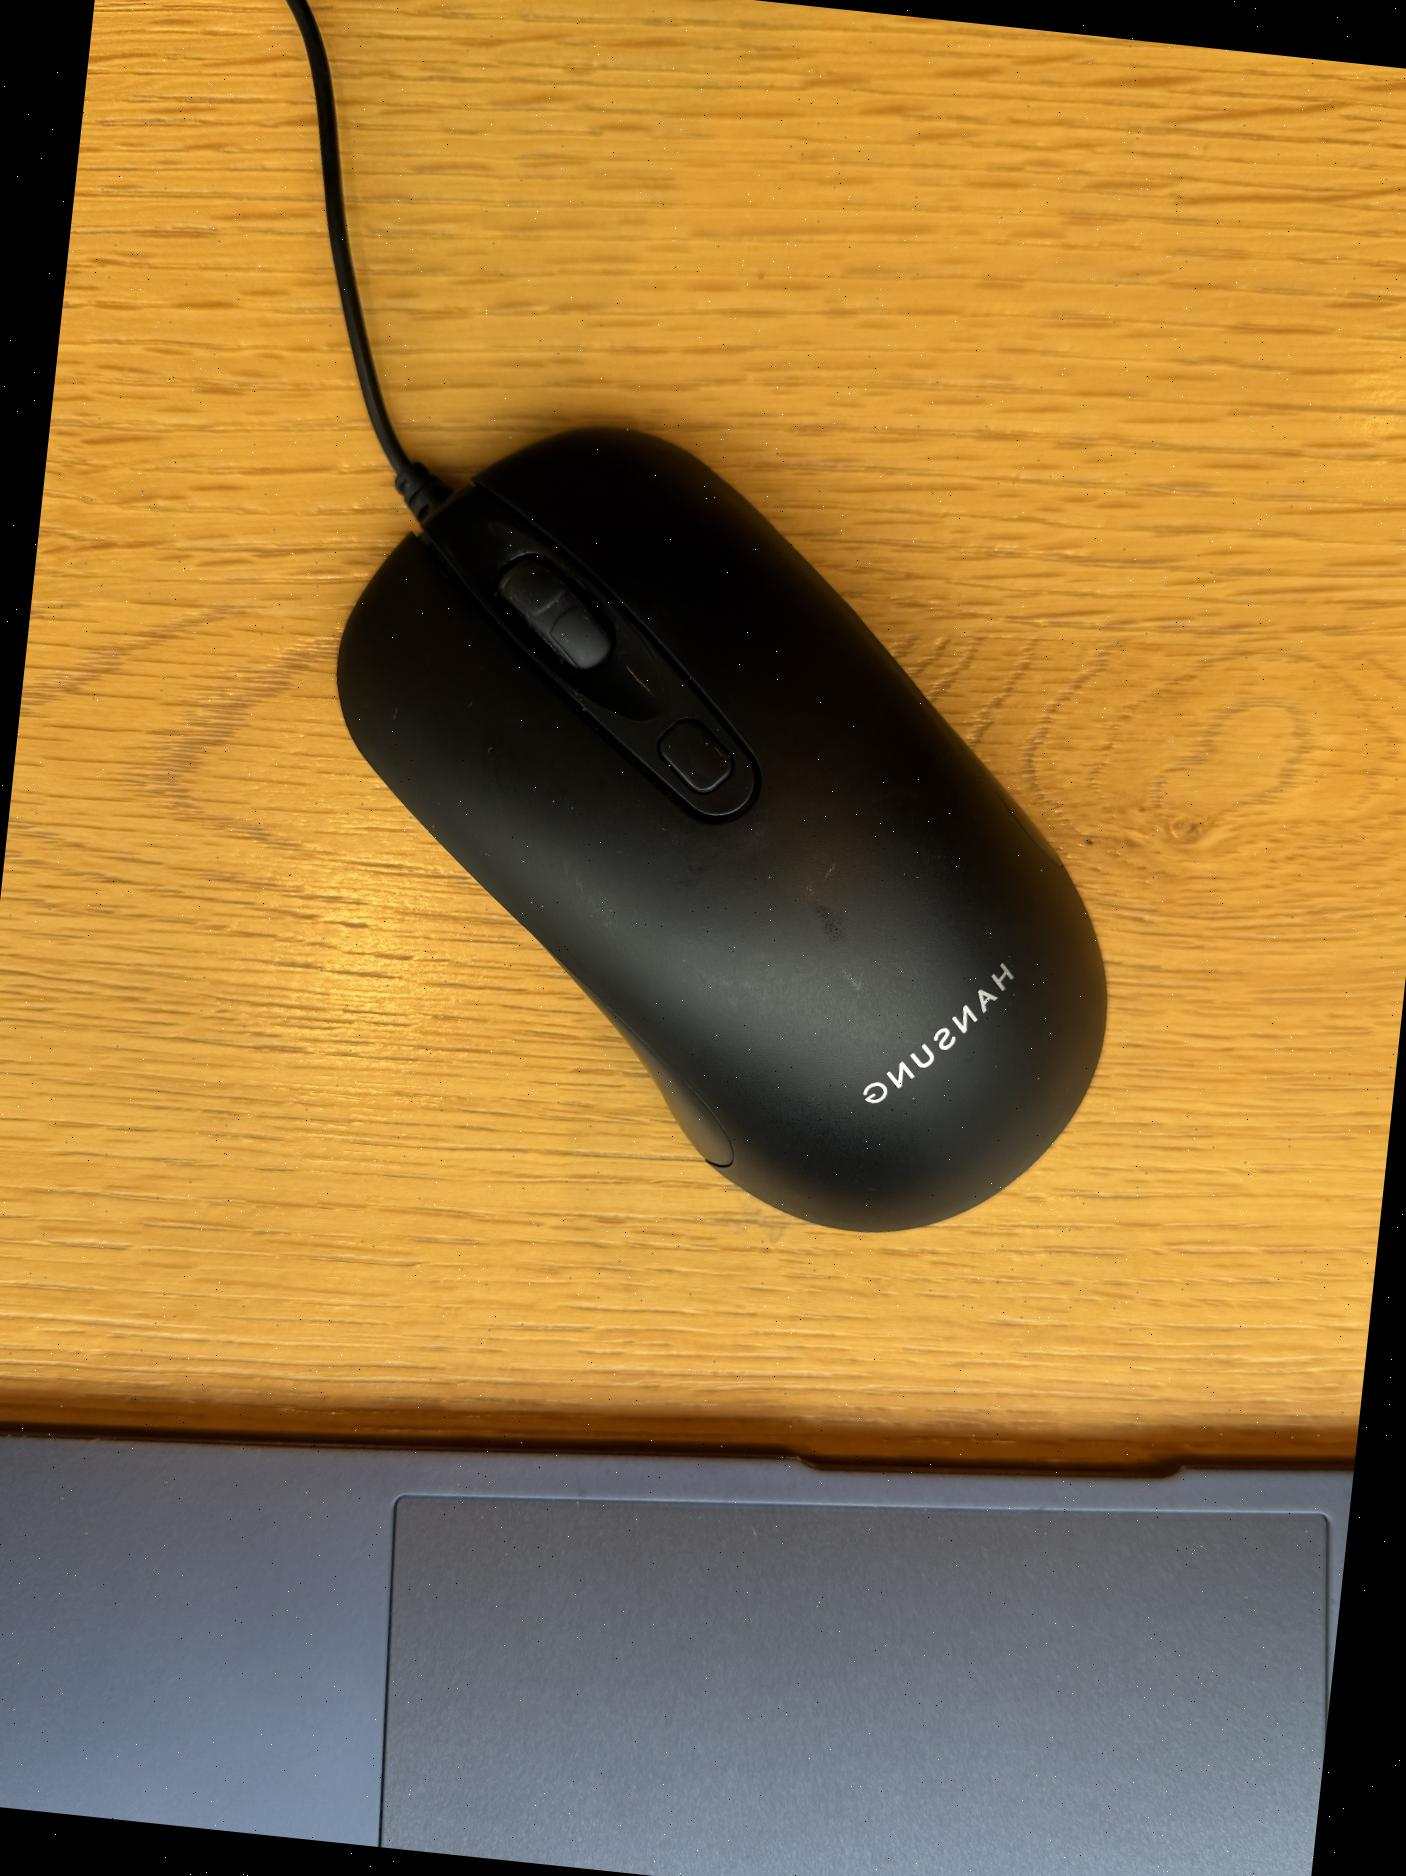front: (278, 399, 1180, 1259)
